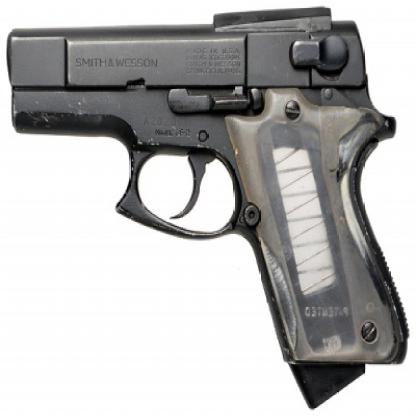Guns: (5, 3, 408, 412)
